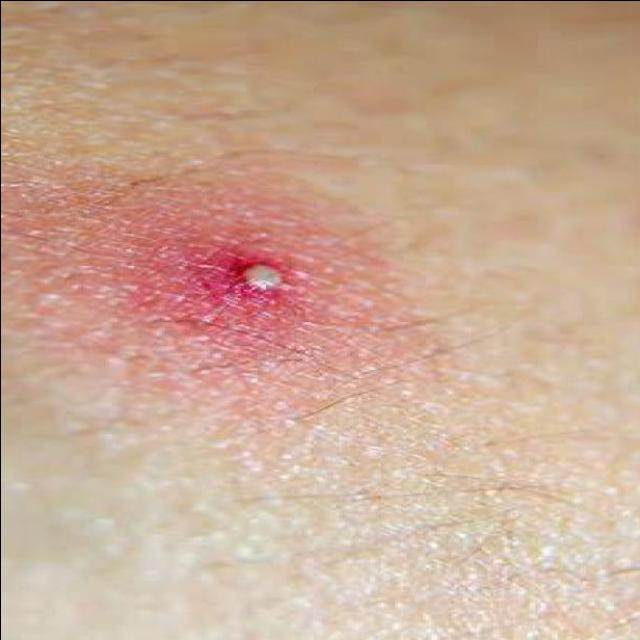pustule: (156, 215, 363, 330)
